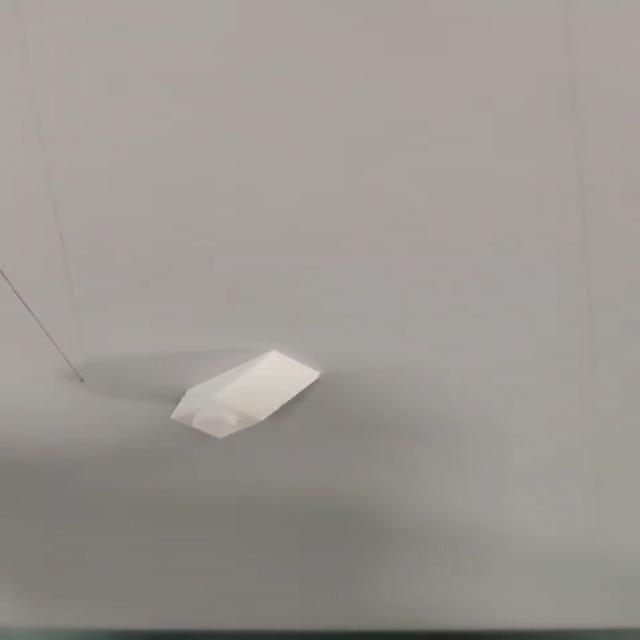P1x2x1: (174, 352, 322, 441)
